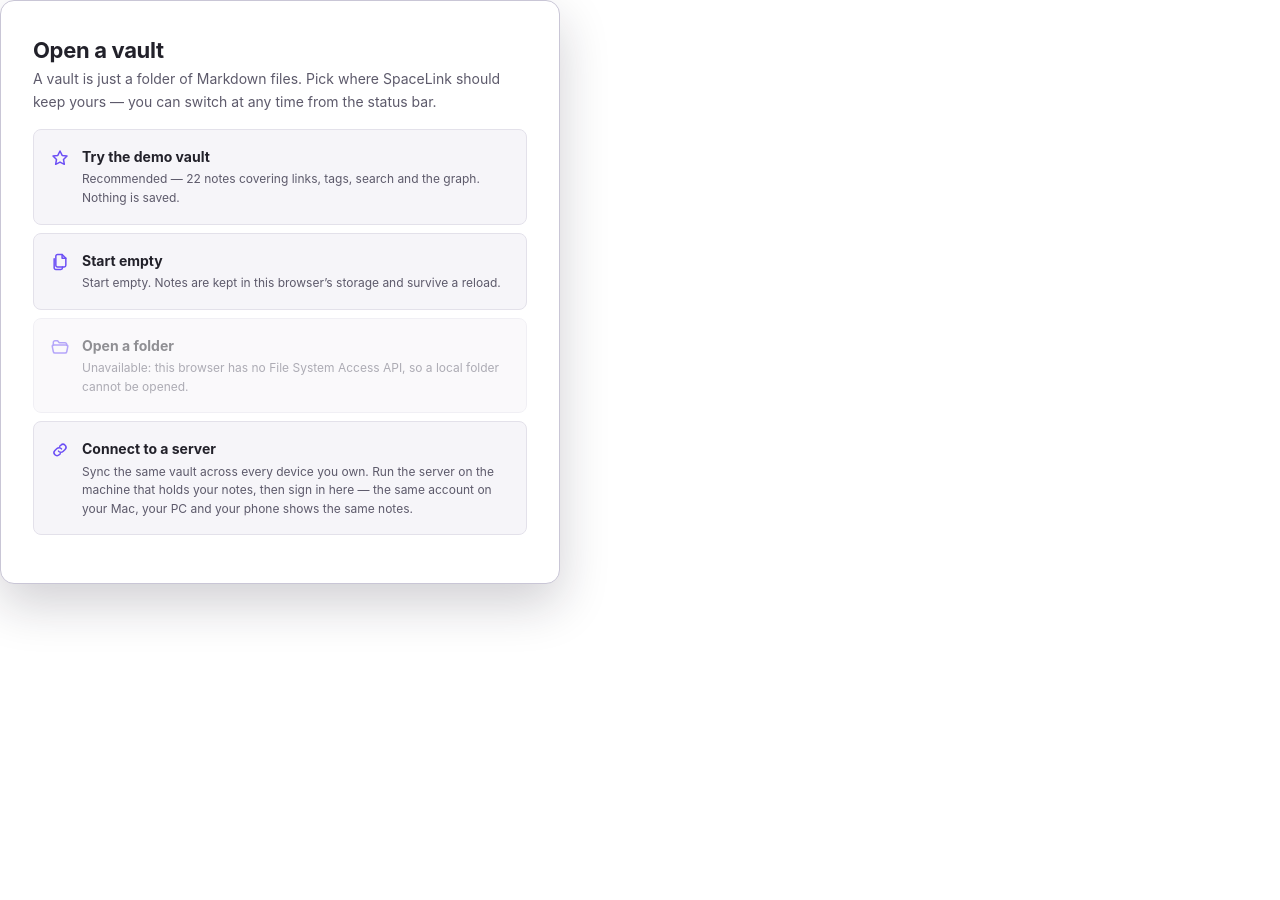
VaultPicker › signing in to a server › offers an account before a token, because that is the way that works on more than one device
Step 1. Click the button that starts with "Connect to a server" → x=280, y=478, box [33,421,527,535]
(page scrolled)
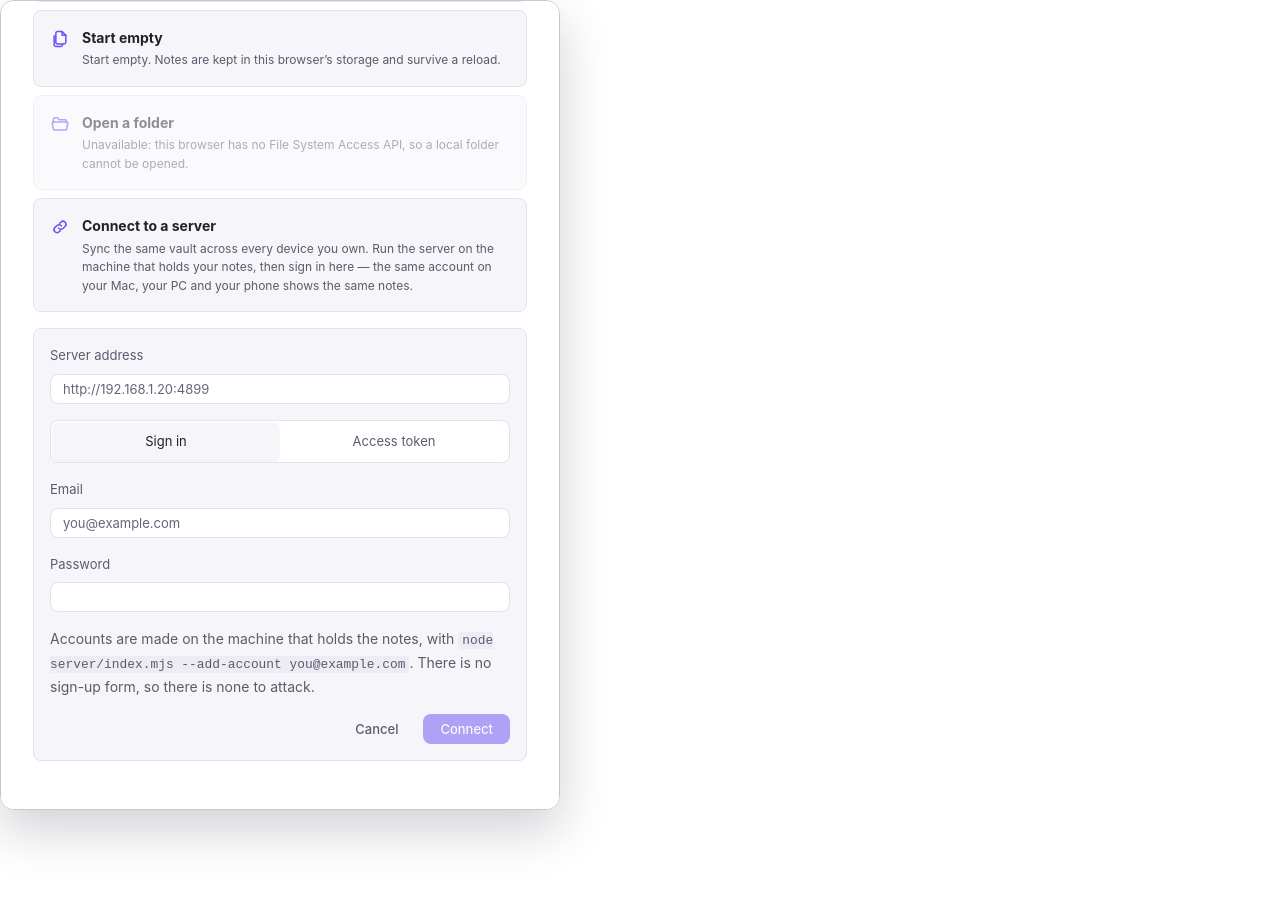
Now the field labelled "Email" is shown, box [50,508,510,538]
Now the form shows "--add-account", box [50,634,493,672]
